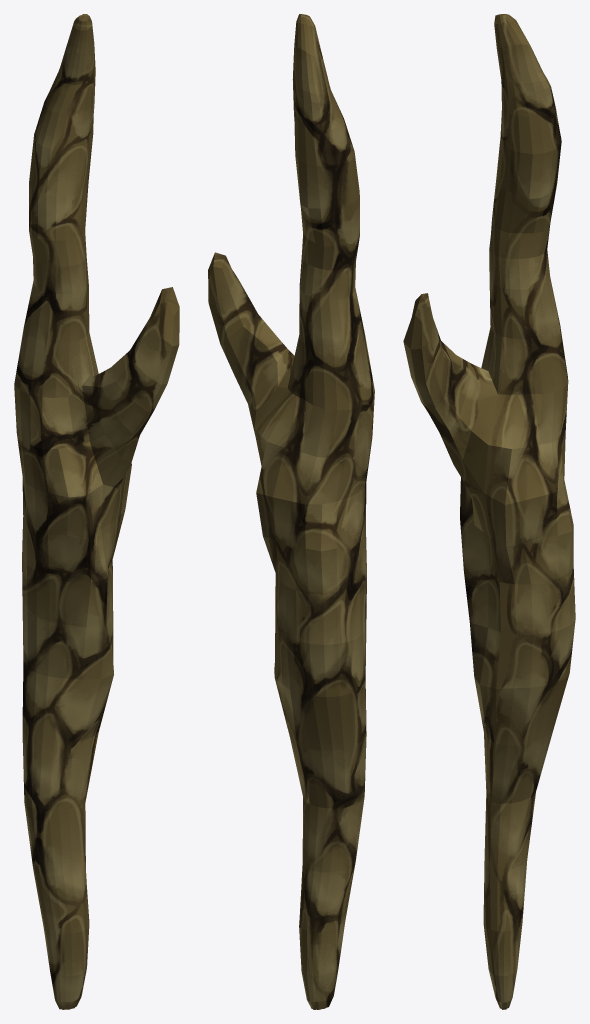
File: Branch1.fbx
3 renders of one model, left to right at view 1: azimuth 30°, elevation 25°; view 2: azimuth 210°, elevation 25°; view 3: azimuth 270°, elevation 25°, orthographic.
Visible parts, largest first — view 1: branch1; view 2: branch1; view 3: branch1.
Part boxes in pixels (x1=…): branch1: x1=14, y1=14, x2=179, y2=1009; branch1: x1=208, y1=14, x2=374, y2=1009; branch1: x1=403, y1=14, x2=575, y2=1009.
Size of the model in its own units: 108 by 961 by 150.
